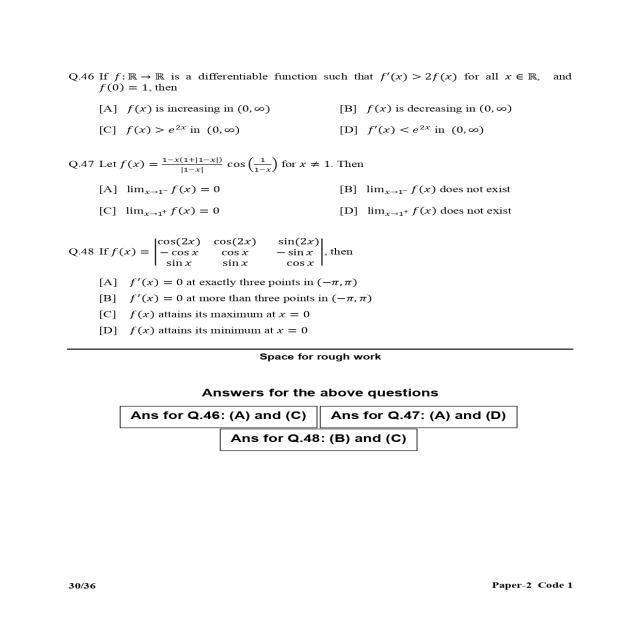Answer_Block: (35, 278, 622, 348), (35, 96, 622, 153), (34, 184, 618, 234)
Question_Answer_Block: (34, 236, 620, 350), (35, 64, 622, 154), (33, 156, 621, 235)
Question_Block: (34, 238, 618, 273), (35, 66, 620, 95), (36, 158, 614, 183)
Question_Paper_Area: (34, 50, 624, 478)
